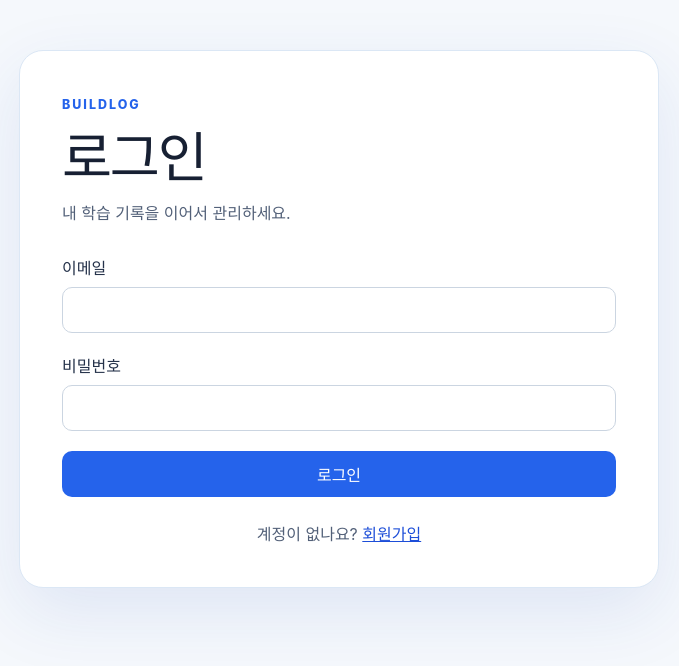
Test: 회원 화면 › 로그인 실패 시 이메일은 유지하고 비밀번호만 지운다
In the field labelled "이메일": (339, 310) [62,287,616,333], type "student@example.com"
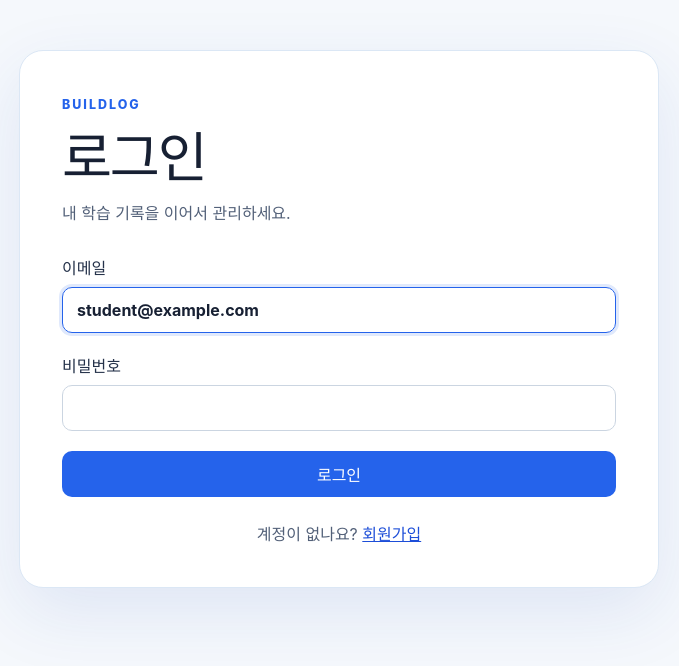
In the password field labelled "비밀번호": (339, 408) [62,385,616,431], type "wrongpass"
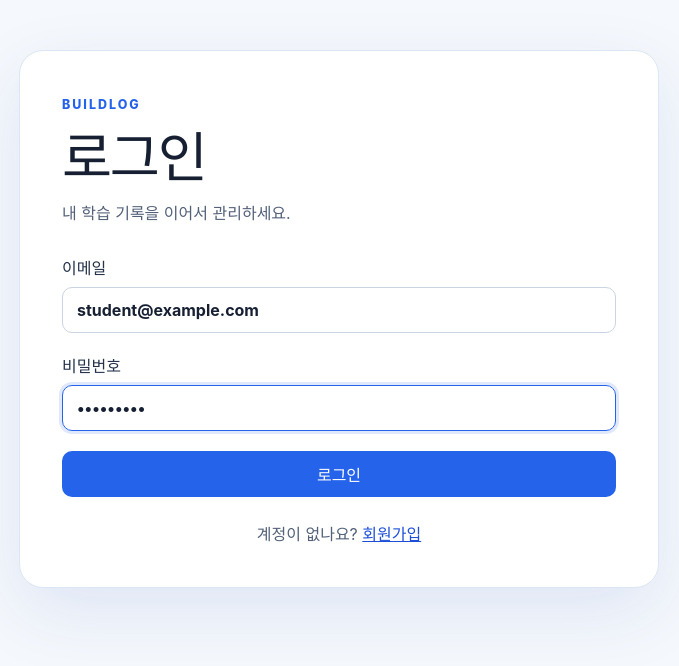
Click the button "로그인": (339, 474) [62,451,616,497]
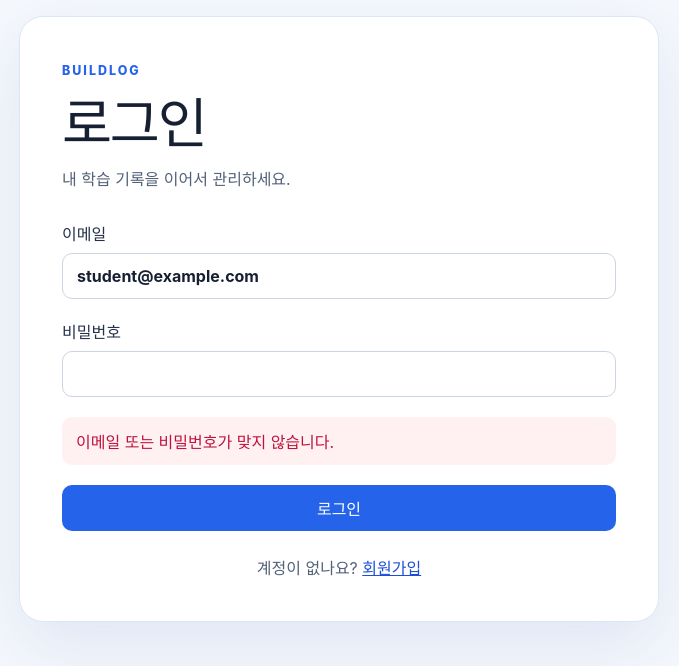
Now the text "이메일 또는 비밀번호가 맞지 않습니다." is shown, box [62,417,616,465]
Now the password field labelled "비밀번호" is empty, box [62,351,616,397]
